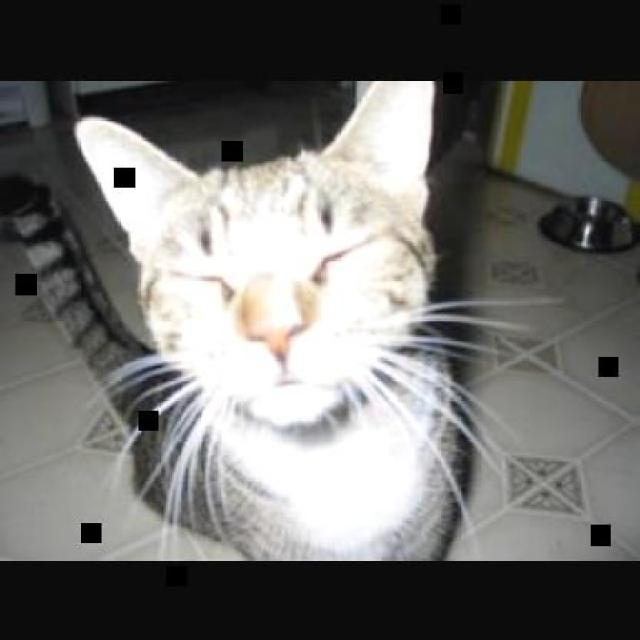unauthorized: (65, 77, 526, 560)
